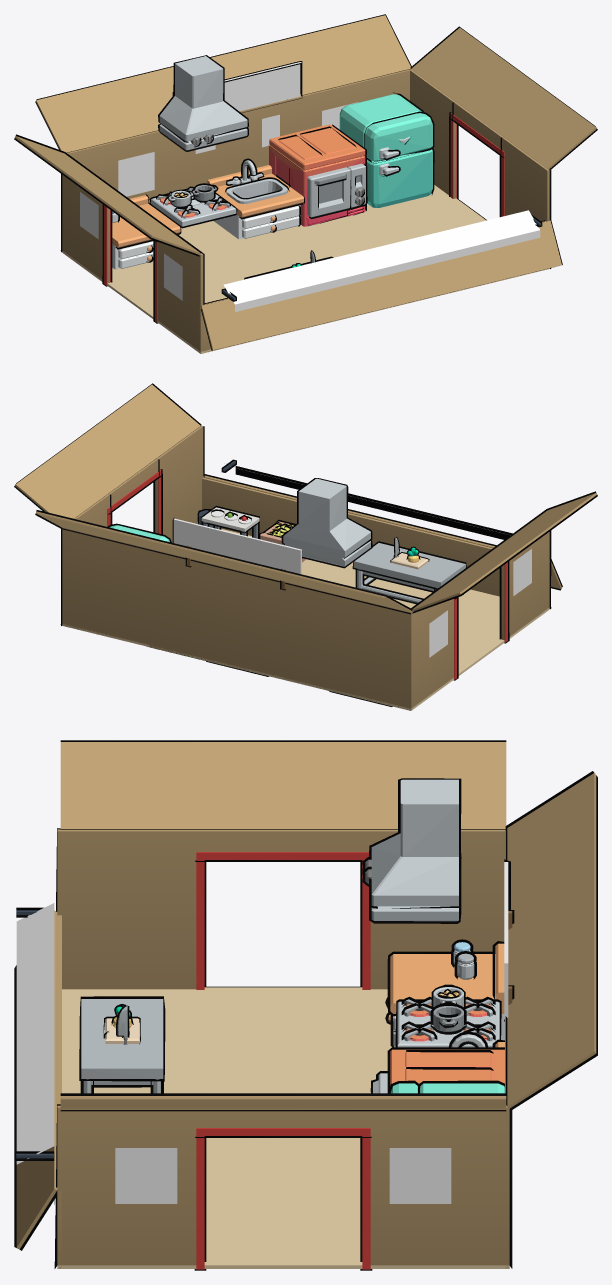
The model's file is BR_Box_Kueche.glb.
3 views of the same model, one above another, from view 1: azimuth 30°, elevation 25°; view 2: azimuth 150°, elevation 25°; view 3: azimuth 270°, elevation 25° (orthographic). The views are drawn at different scales.
Parts seen in each view (by area): view 1: BR_Box_Kueche_Mesh, BR_Box_Kueche_Outline; view 2: BR_Box_Kueche_Mesh, BR_Box_Kueche_Outline, Prop_Schneidebrett; view 3: BR_Box_Kueche_Mesh, BR_Box_Kueche_Outline, Prop_Schneidebrett.
Part boxes in pixels (bbox=[...]): BR_Box_Kueche_Mesh: bbox=[15, 15, 596, 353]; BR_Box_Kueche_Outline: bbox=[14, 14, 597, 350]; BR_Box_Kueche_Mesh: bbox=[15, 384, 596, 710]; BR_Box_Kueche_Outline: bbox=[14, 383, 597, 706]; Prop_Schneidebrett: bbox=[391, 547, 428, 569]; BR_Box_Kueche_Mesh: bbox=[16, 742, 596, 1269]; BR_Box_Kueche_Outline: bbox=[14, 740, 597, 1270]; Prop_Schneidebrett: bbox=[105, 1005, 139, 1043].
Size of the model in its own units: 12.31 by 4.73 by 8.52.
